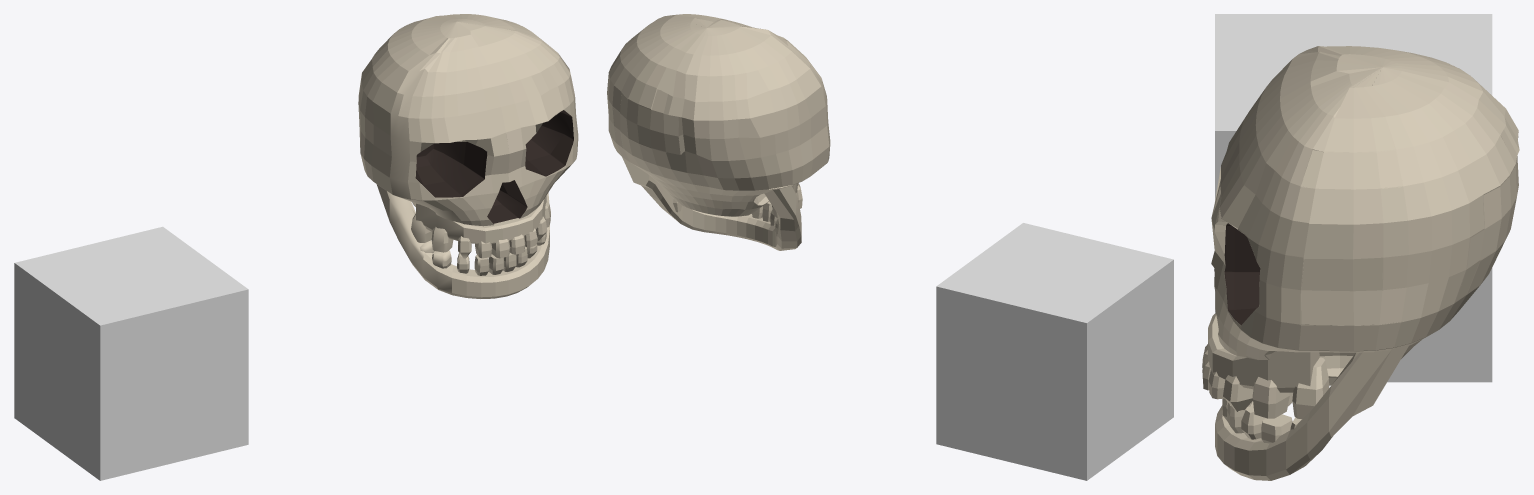
The model's file is ritual-skull.glb.
3 renders of one model, left to right at view 1: azimuth 30°, elevation 25°; view 2: azimuth 150°, elevation 25°; view 3: azimuth 270°, elevation 25°, orthographic. The views are drawn at different scales.
Parts seen in each view (by area): view 1: Cube, JR_Caveira_Ritual; view 2: Cube, JR_Caveira_Ritual; view 3: JR_Caveira_Ritual, Cube.
Part boxes in pixels (bbox=[...]): Cube: bbox=[14, 226, 248, 480]; JR_Caveira_Ritual: bbox=[358, 14, 578, 298]; Cube: bbox=[936, 223, 1173, 480]; JR_Caveira_Ritual: bbox=[607, 14, 830, 250]; JR_Caveira_Ritual: bbox=[1202, 46, 1519, 480]; Cube: bbox=[1215, 14, 1492, 382].
Bounding box in the file's own units: 6.78 × 4.14 × 2.29.
